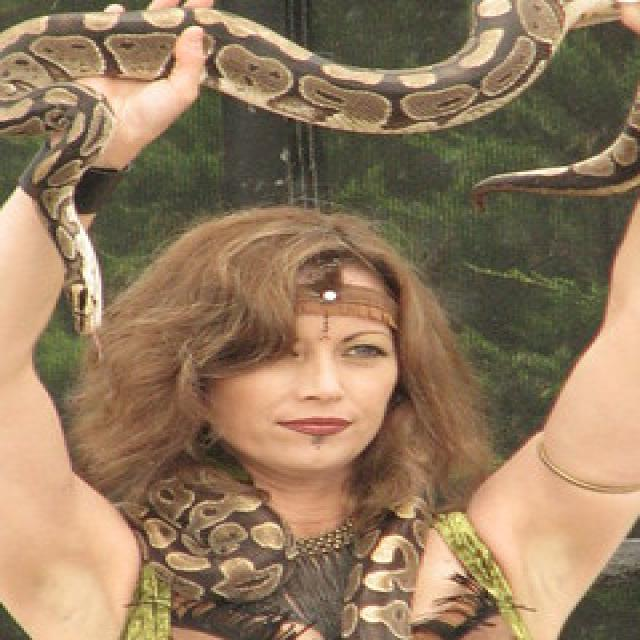Snake: (0, 0, 640, 340)
